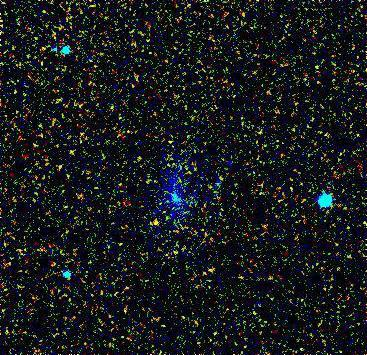star: (139, 205, 169, 235)
